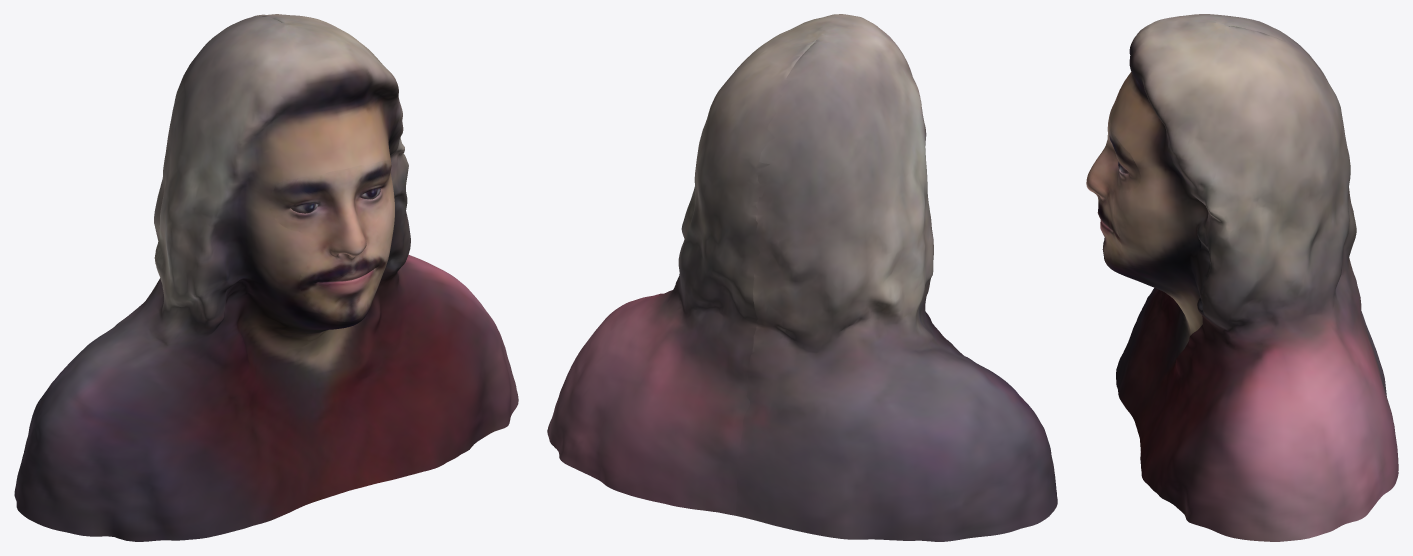
The model's file is AndreaBandinelli.gltf.
3 views of the same model, side by side, from view 1: azimuth 30°, elevation 25°; view 2: azimuth 150°, elevation 25°; view 3: azimuth 270°, elevation 25° (orthographic). The views are drawn at different scales.
Parts seen in each view (by area): view 1: AndreaBandinelli; view 2: AndreaBandinelli; view 3: AndreaBandinelli.
Part boxes in pixels (bbox=[...]): AndreaBandinelli: bbox=[14, 14, 518, 541]; AndreaBandinelli: bbox=[547, 14, 1057, 541]; AndreaBandinelli: bbox=[1086, 14, 1398, 541].
Bounding box in the file's own units: 9.85 × 8.32 × 5.78.
1 material, 1 textured.
